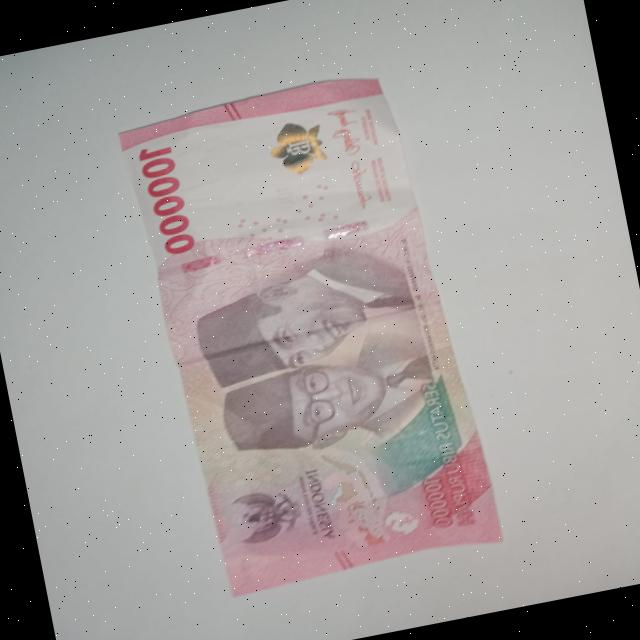100K: (93, 52, 526, 606)
